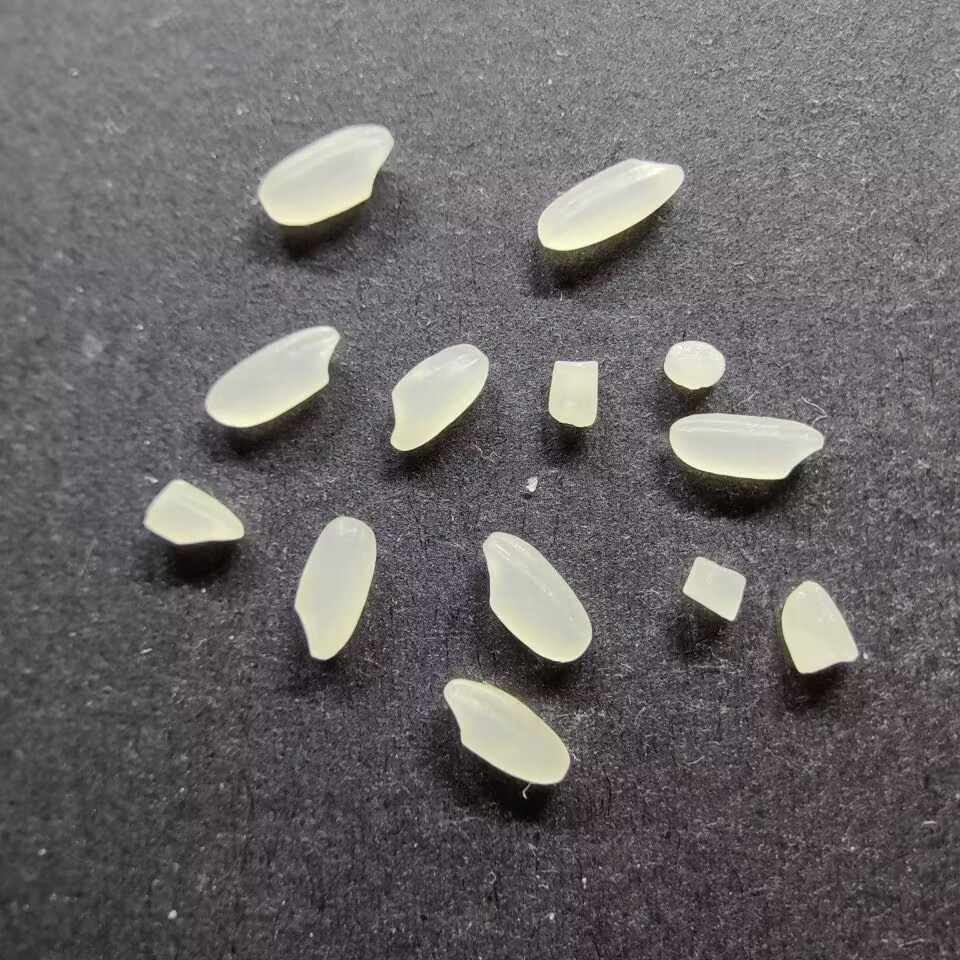broken: (778, 575, 860, 678), (678, 555, 749, 622), (546, 356, 604, 427), (661, 340, 727, 391)
rice: (479, 529, 593, 665), (204, 322, 342, 429), (257, 122, 396, 228), (441, 677, 575, 785), (535, 157, 685, 253), (292, 512, 378, 661), (387, 340, 490, 452), (667, 410, 825, 481)
